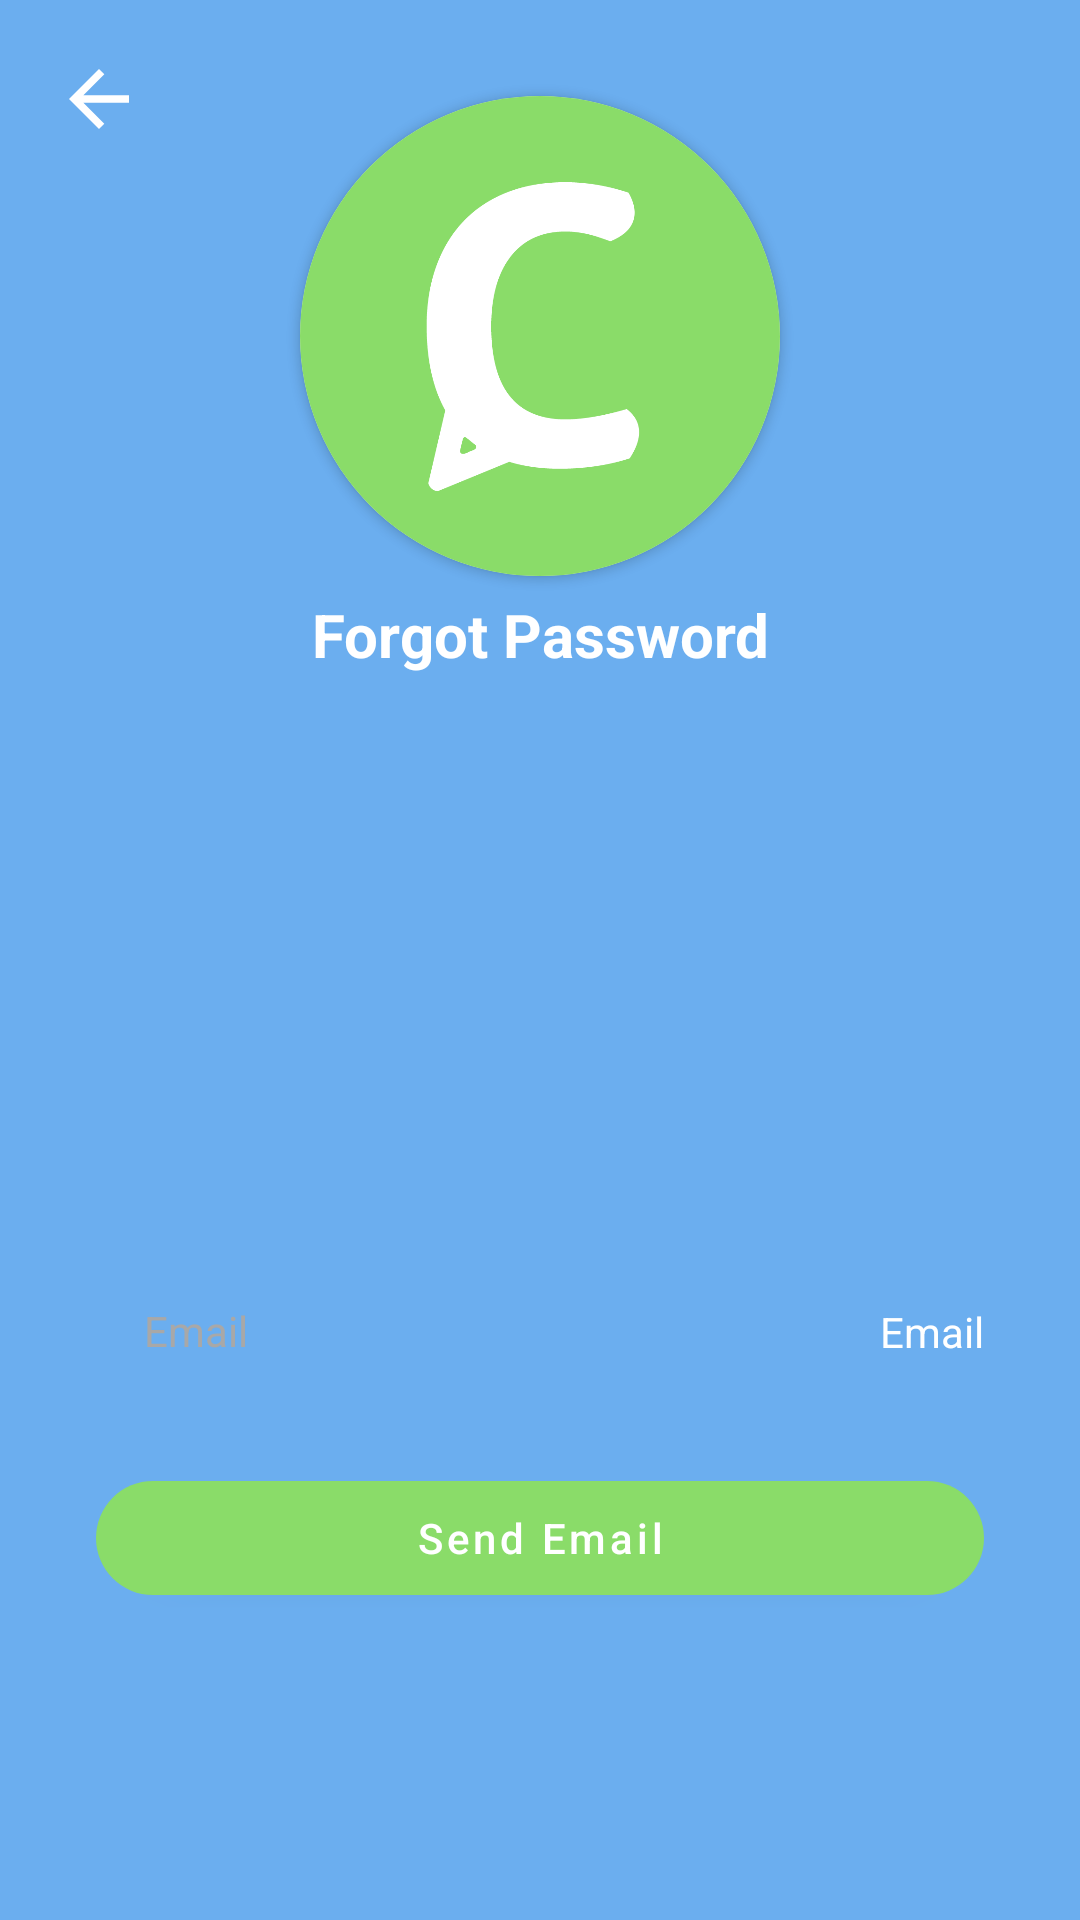

Icons on this 1080x1920 Android screen, each with its box as [left=x1, top=y1, right=x2, bottom=y2]:
Back: [left=69, top=69, right=129, bottom=129]
